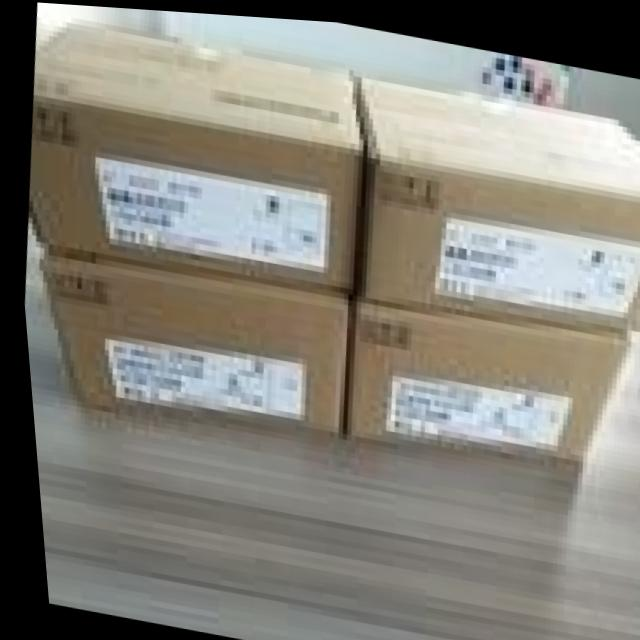box: (25, 20, 361, 285), (350, 73, 640, 325), (35, 249, 348, 433), (336, 284, 626, 459)
